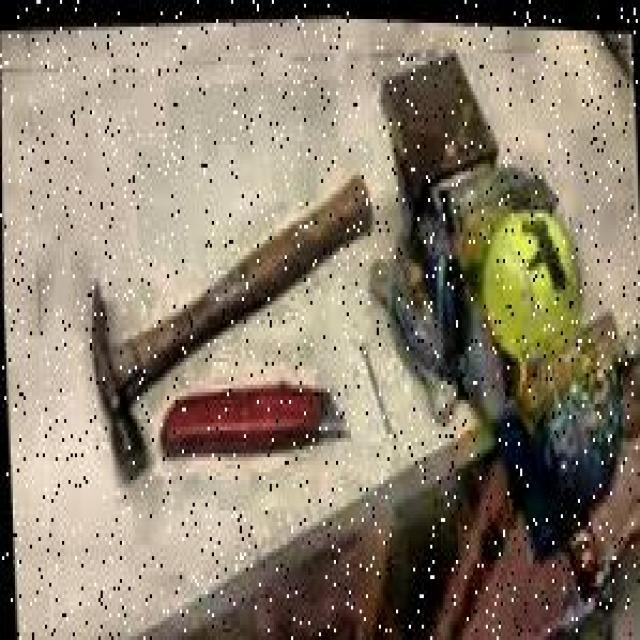tennis-ball: (480, 200, 582, 379)
